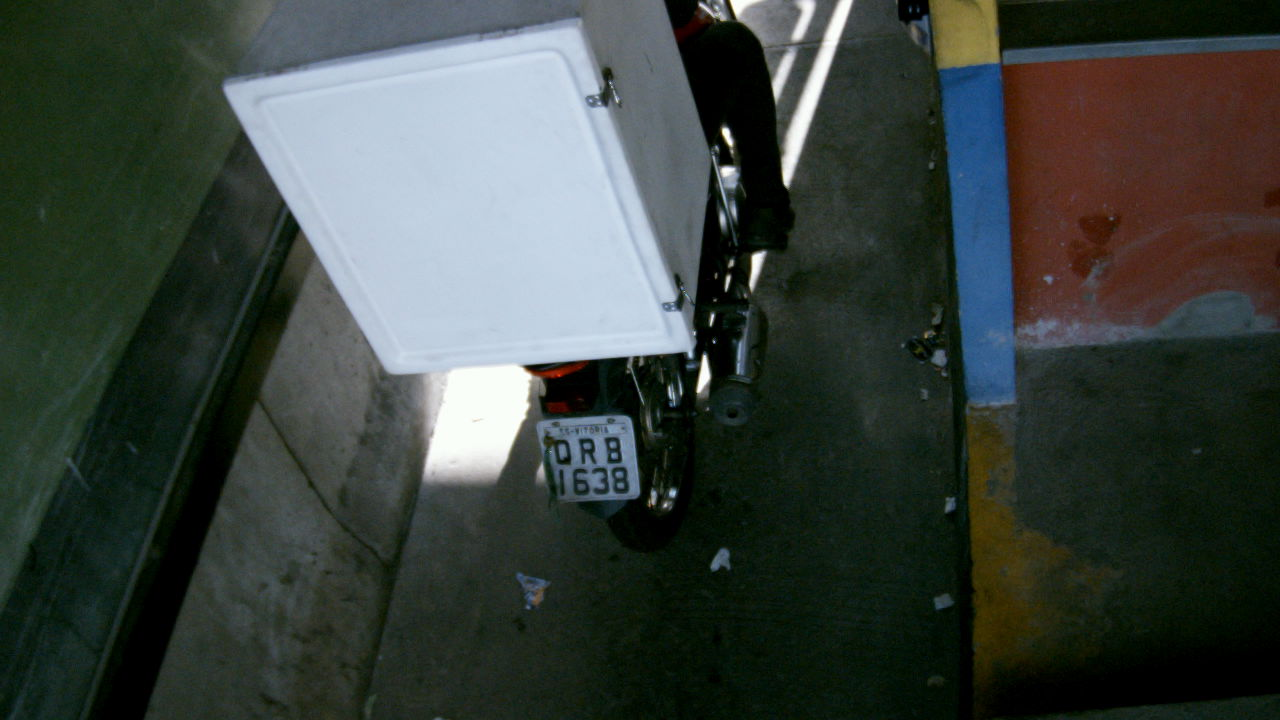placa: (534, 414, 642, 505)
